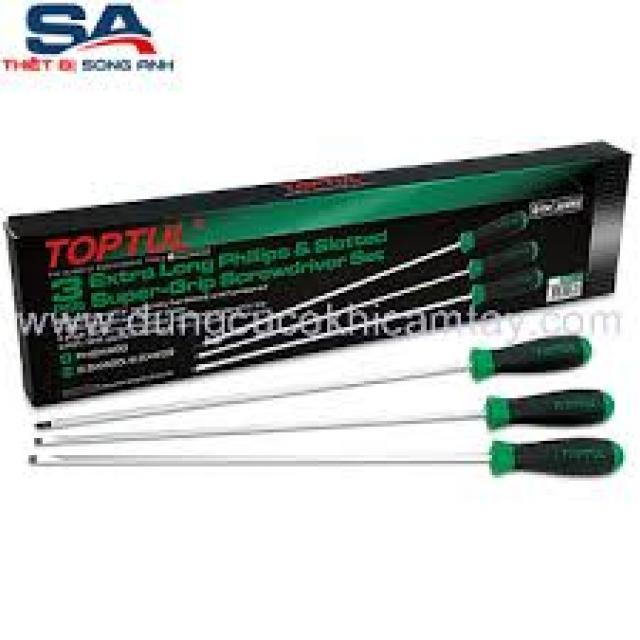screwdriver: (28, 332, 594, 432), (27, 386, 616, 449), (28, 432, 626, 478)
